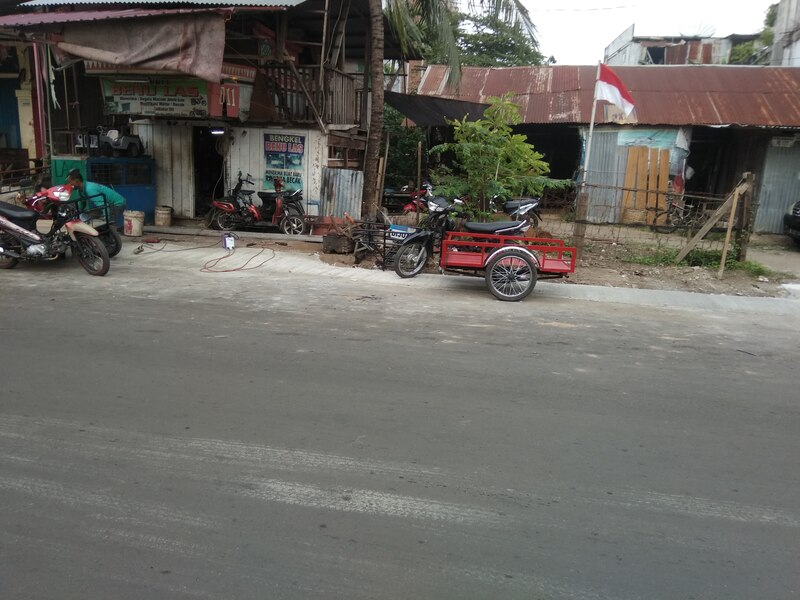becak barang: (391, 187, 583, 306), (2, 173, 134, 281)
